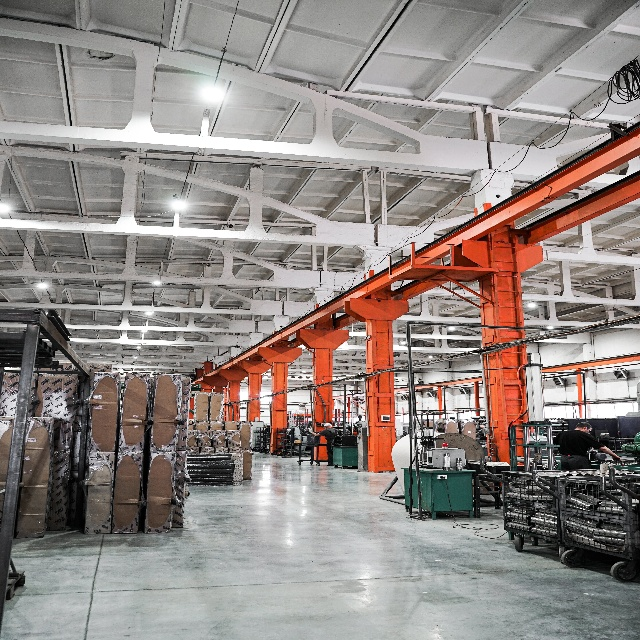Sin_guantes: (612, 452, 621, 462)
